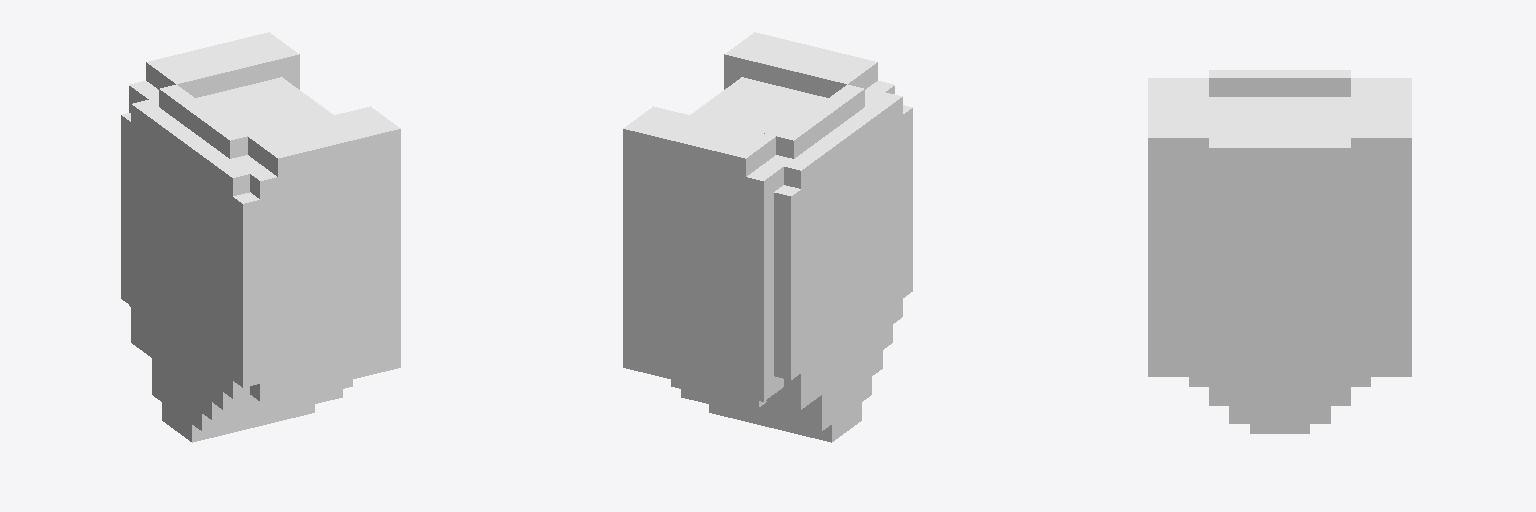
File: Character1_Body.obj
The picture shows the model from 3 angles: view 1: azimuth 30°, elevation 25°; view 2: azimuth 150°, elevation 25°; view 3: azimuth 270°, elevation 25°; orthographic projection.
Parts seen in each view (by area): view 1: object 1; view 2: object 1; view 3: object 1.
Part boxes in pixels (left/top/right/bottom): object 1: left=121, top=32, right=400, bottom=442; object 1: left=623, top=32, right=912, bottom=442; object 1: left=1148, top=70, right=1411, bottom=433.
Size of the model in its own units: 0.9 by 1.7 by 1.3.